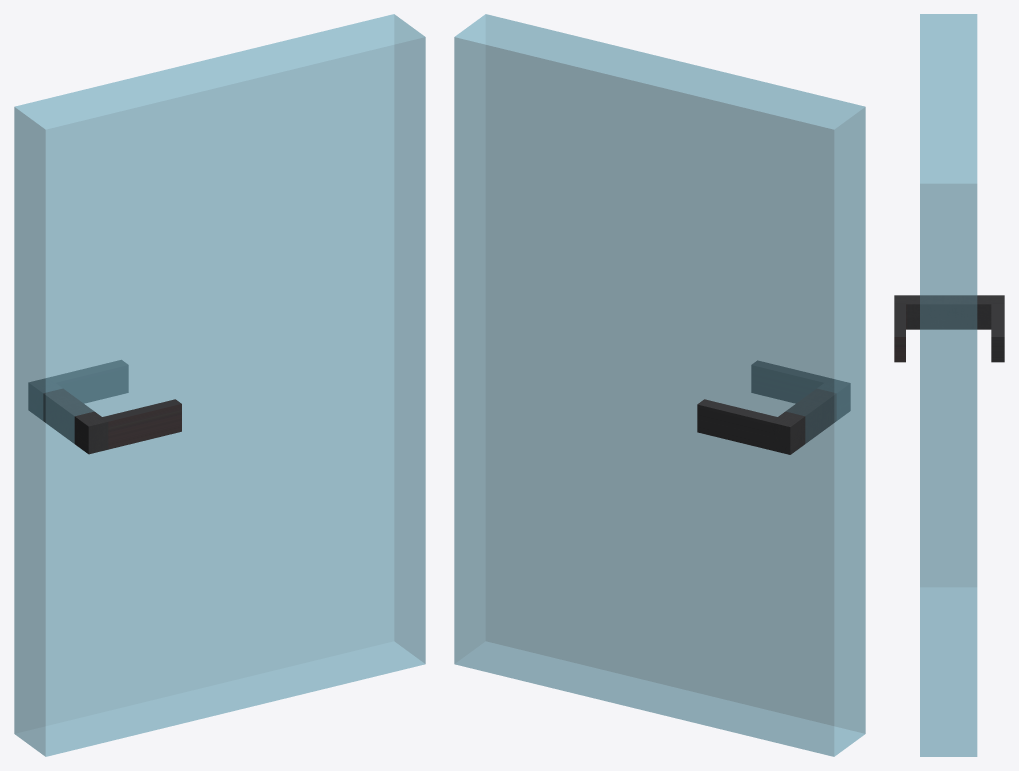
Rendered from level_1_front_door_right.fbx.
3 views of the same model, side by side, from view 1: azimuth 30°, elevation 25°; view 2: azimuth 150°, elevation 25°; view 3: azimuth 270°, elevation 25° (orthographic). The views are drawn at different scales.
Parts seen in each view (by area): view 1: Cube.010; view 2: Cube.010; view 3: Cube.010.
Part boxes in pixels (left/top/right/bottom): Cube.010: left=14, top=14, right=425, bottom=756; Cube.010: left=454, top=14, right=865, bottom=756; Cube.010: left=894, top=14, right=1004, bottom=756.
Size of the model in its own units: 174 by 275 by 47.9.
